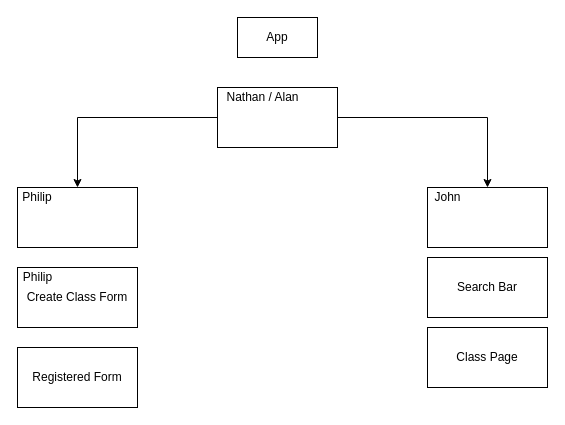
Some shapes in this 565 by 425 pixel diagram are drawn without their labels. Each missing label, with the box of its shape:
Client: (426, 186, 548, 248)
Instructor: (16, 186, 138, 248)
Login: (216, 86, 338, 148)
